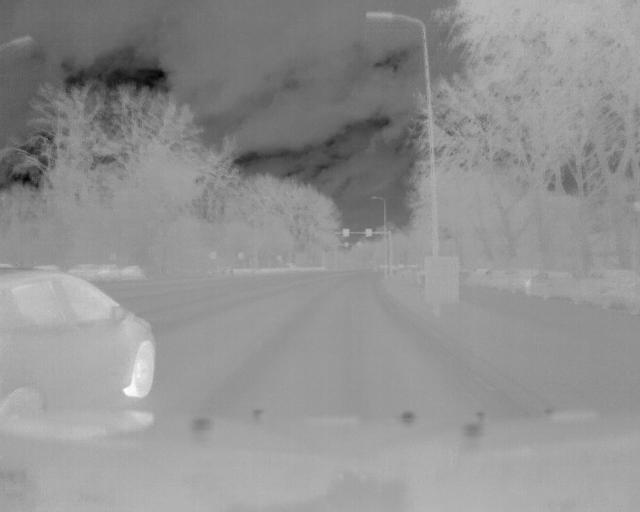car: (1, 270, 161, 407), (525, 269, 578, 302)
